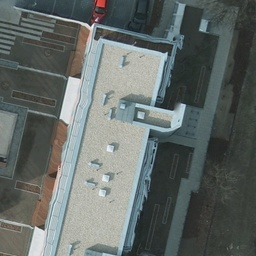car: (132, 1, 147, 26), (92, 1, 105, 27)
